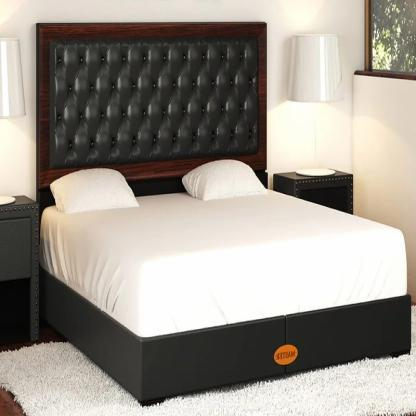bed: (33, 20, 416, 411)
light: (287, 25, 356, 181), (0, 29, 39, 202)
table: (0, 193, 38, 355), (284, 174, 357, 227)
